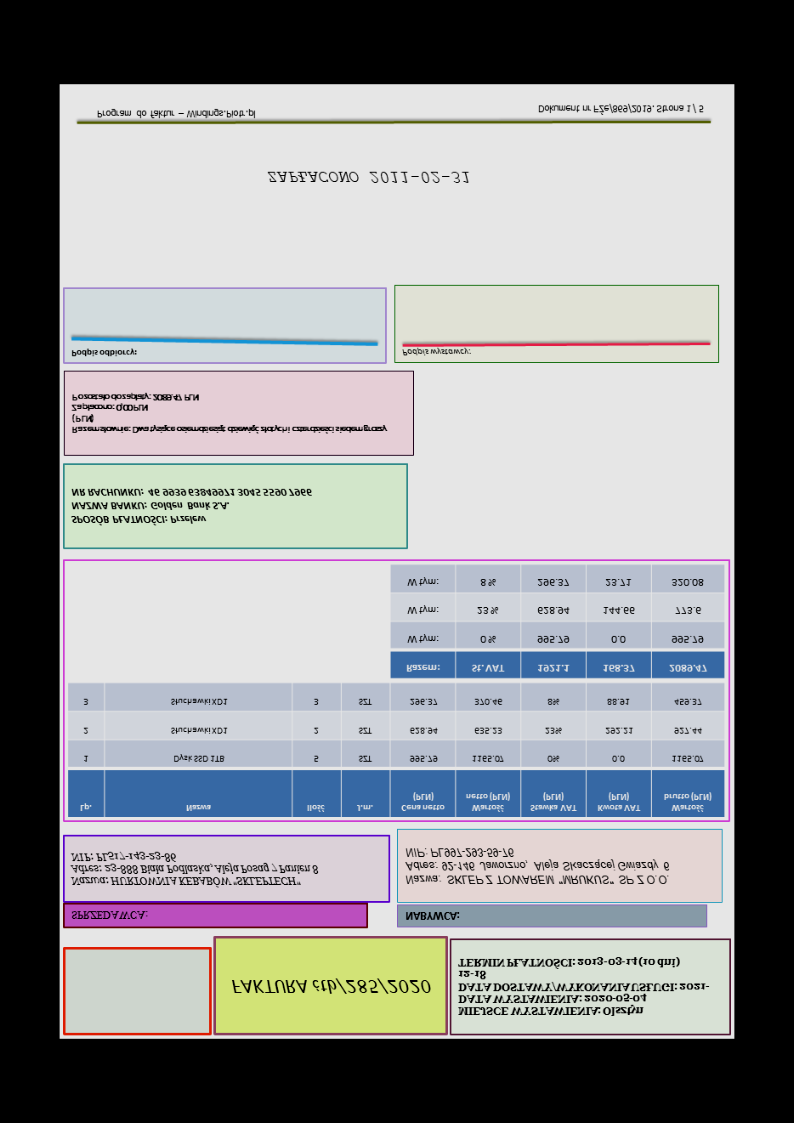Table: (66, 682, 724, 818), (388, 564, 726, 680)
TextBox: (456, 955, 711, 1018), (69, 392, 389, 436), (404, 845, 672, 887), (70, 485, 314, 527), (69, 850, 318, 888), (230, 975, 432, 998), (266, 168, 472, 185), (536, 99, 705, 117), (94, 106, 257, 120), (69, 908, 150, 921), (68, 346, 141, 359), (404, 908, 461, 922), (400, 346, 472, 357)
